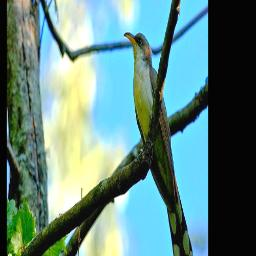Cuckoo: (124, 32, 194, 256)
